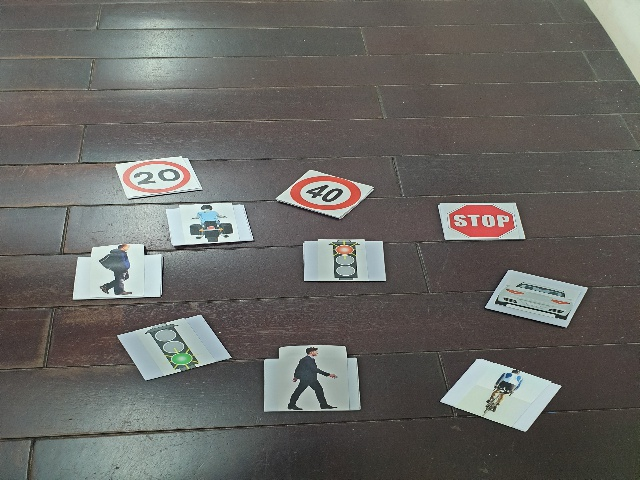Car: (499, 278, 570, 319)
Cyclist: (482, 367, 522, 421)
Green Light: (146, 323, 199, 370)
Limit 20: (121, 162, 191, 191)
Limit 40: (291, 177, 360, 210)
Motorcycle: (187, 204, 236, 243)
Person: (282, 347, 338, 411), (96, 243, 137, 298)
Red Light: (323, 240, 366, 280)
Stop: (444, 203, 520, 239)
